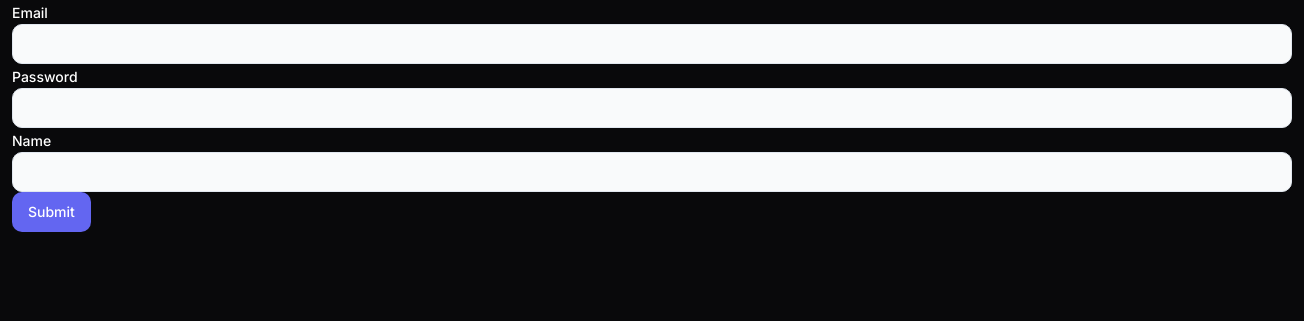
Test: Form Validation › shows validation errors for empty required fields
The width and height of the screenshot is (1304, 321).
Click the button "Submit" at (51,212), box [12, 192, 91, 232]
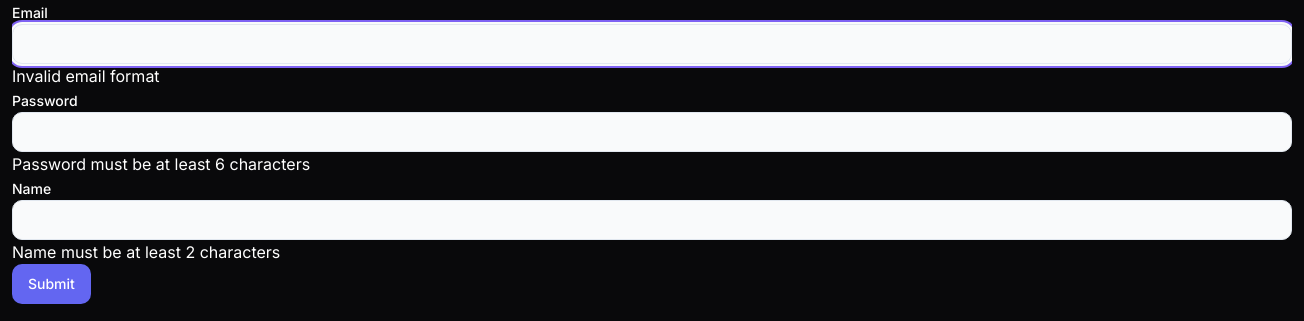
Check: the text "Invalid email format" is shown, box [12, 66, 160, 86]
Check: the text "Password must be at least 6 characters" is shown, box [12, 154, 310, 174]
Check: the text "Name must be at least 2 characters" is shown, box [12, 242, 280, 262]
